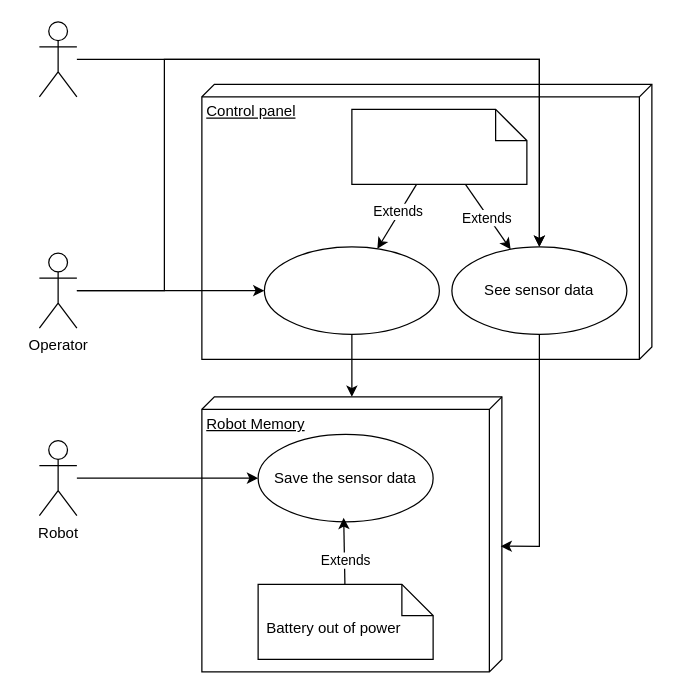
Image size: 674x694. Some labels were removed from this diagram. The shapes that lost their labels are listed below. From the top down, each one's centre as x and y in pixels, then its label:
At (x=57, y=59): "Reseacher".
At (x=439, y=146): "No internet connection".
At (x=351, y=290): "Control the robot".
